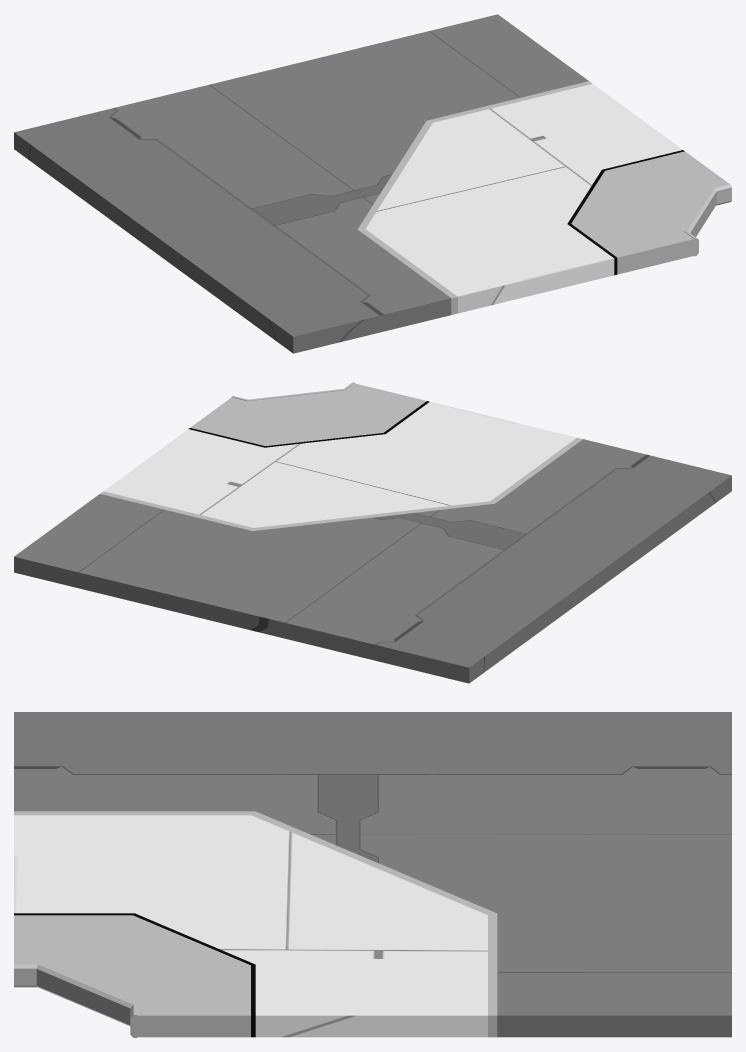
Rendered from SM_Platform_Interior_6x6_Corner.fbx.
3 renders of one model, top to bottom at view 1: azimuth 30°, elevation 25°; view 2: azimuth 150°, elevation 25°; view 3: azimuth 270°, elevation 25°, orthographic. The views are drawn at different scales.
Parts seen in each view (by area): view 1: SM_Platform_Interior_6x6_Corner; view 2: SM_Platform_Interior_6x6_Corner; view 3: SM_Platform_Interior_6x6_Corner.
Boxes of the visible parts, bbox=[...] form: SM_Platform_Interior_6x6_Corner: bbox=[14, 14, 731, 353]; SM_Platform_Interior_6x6_Corner: bbox=[14, 382, 731, 683]; SM_Platform_Interior_6x6_Corner: bbox=[14, 712, 731, 1037].
Bounding box in the file's own units: 600 × 21.21 × 600.
